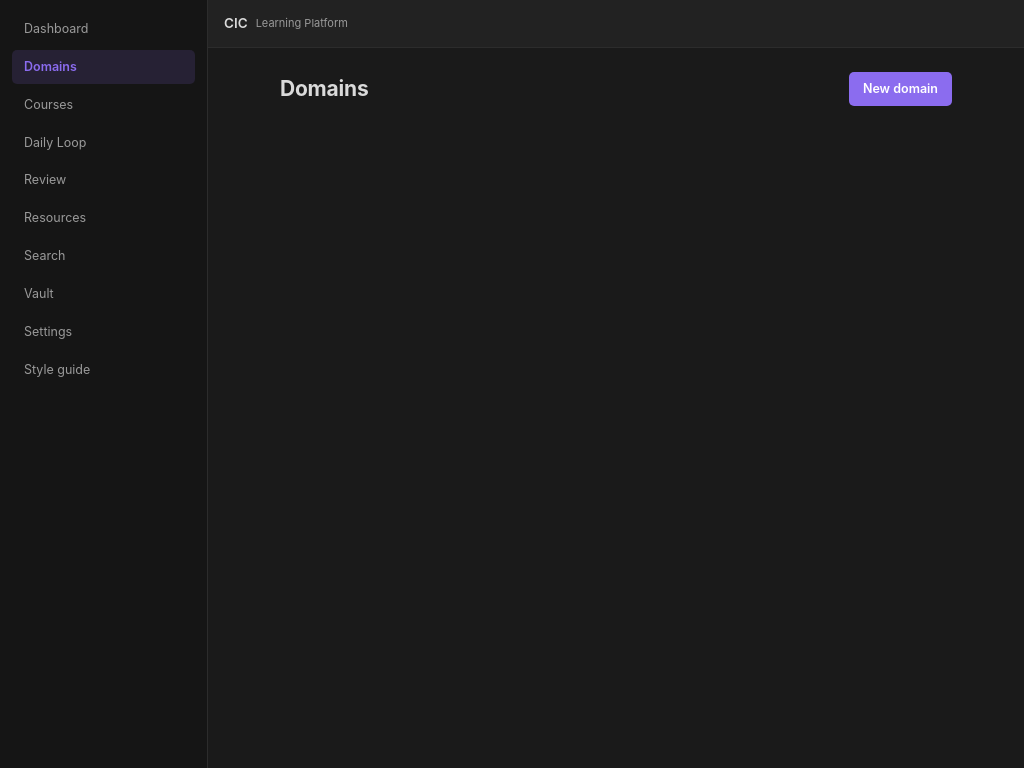
accessibility & keyboard (FR-014/SC-007) › labels the create form's fields and offers the color choices as real radios
What coordinates should you click on to do the following:
click the button "New domain"
I would click on:
 (900, 89)
Its box is [849,72,952,106].
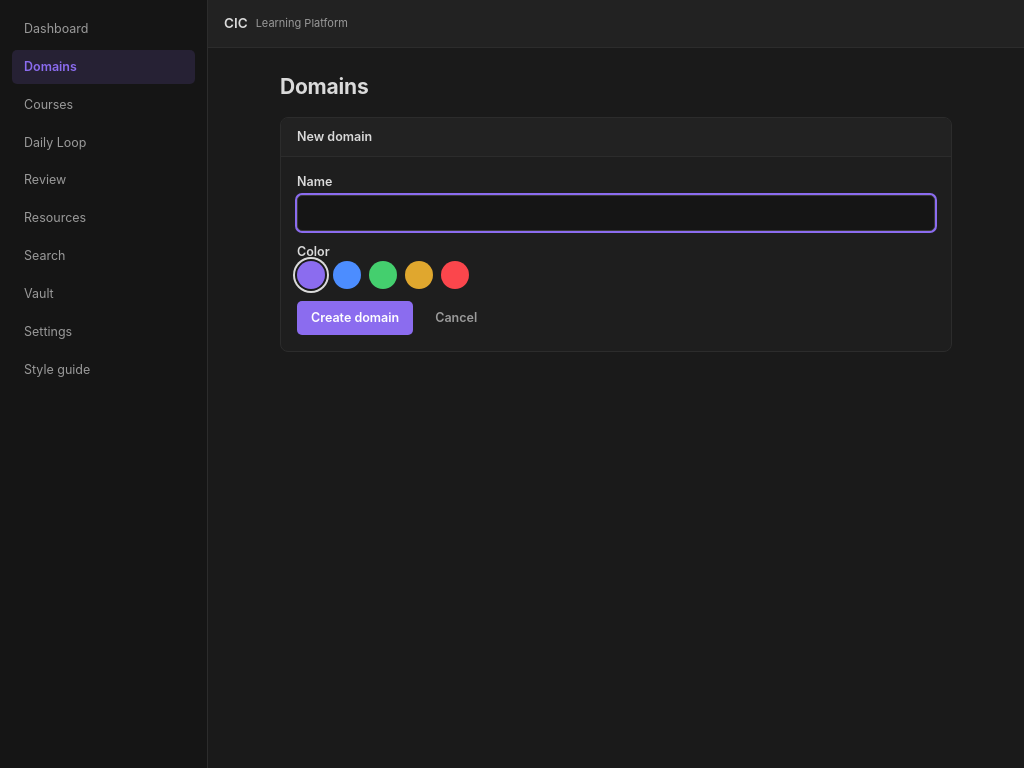
Now the field labelled "Name" is shown, box [297,195,935,231]
Now the radio button named "Green" is shown, box [369,261,397,289]
